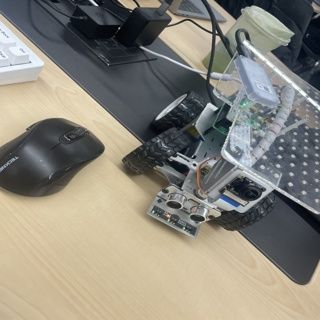vehicle: (123, 42, 319, 257)
